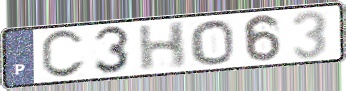3: (90, 24, 136, 77), (291, 7, 332, 62)
6: (241, 13, 284, 64)
C: (38, 28, 87, 81)
H: (136, 20, 188, 73)
O: (188, 18, 237, 66)
